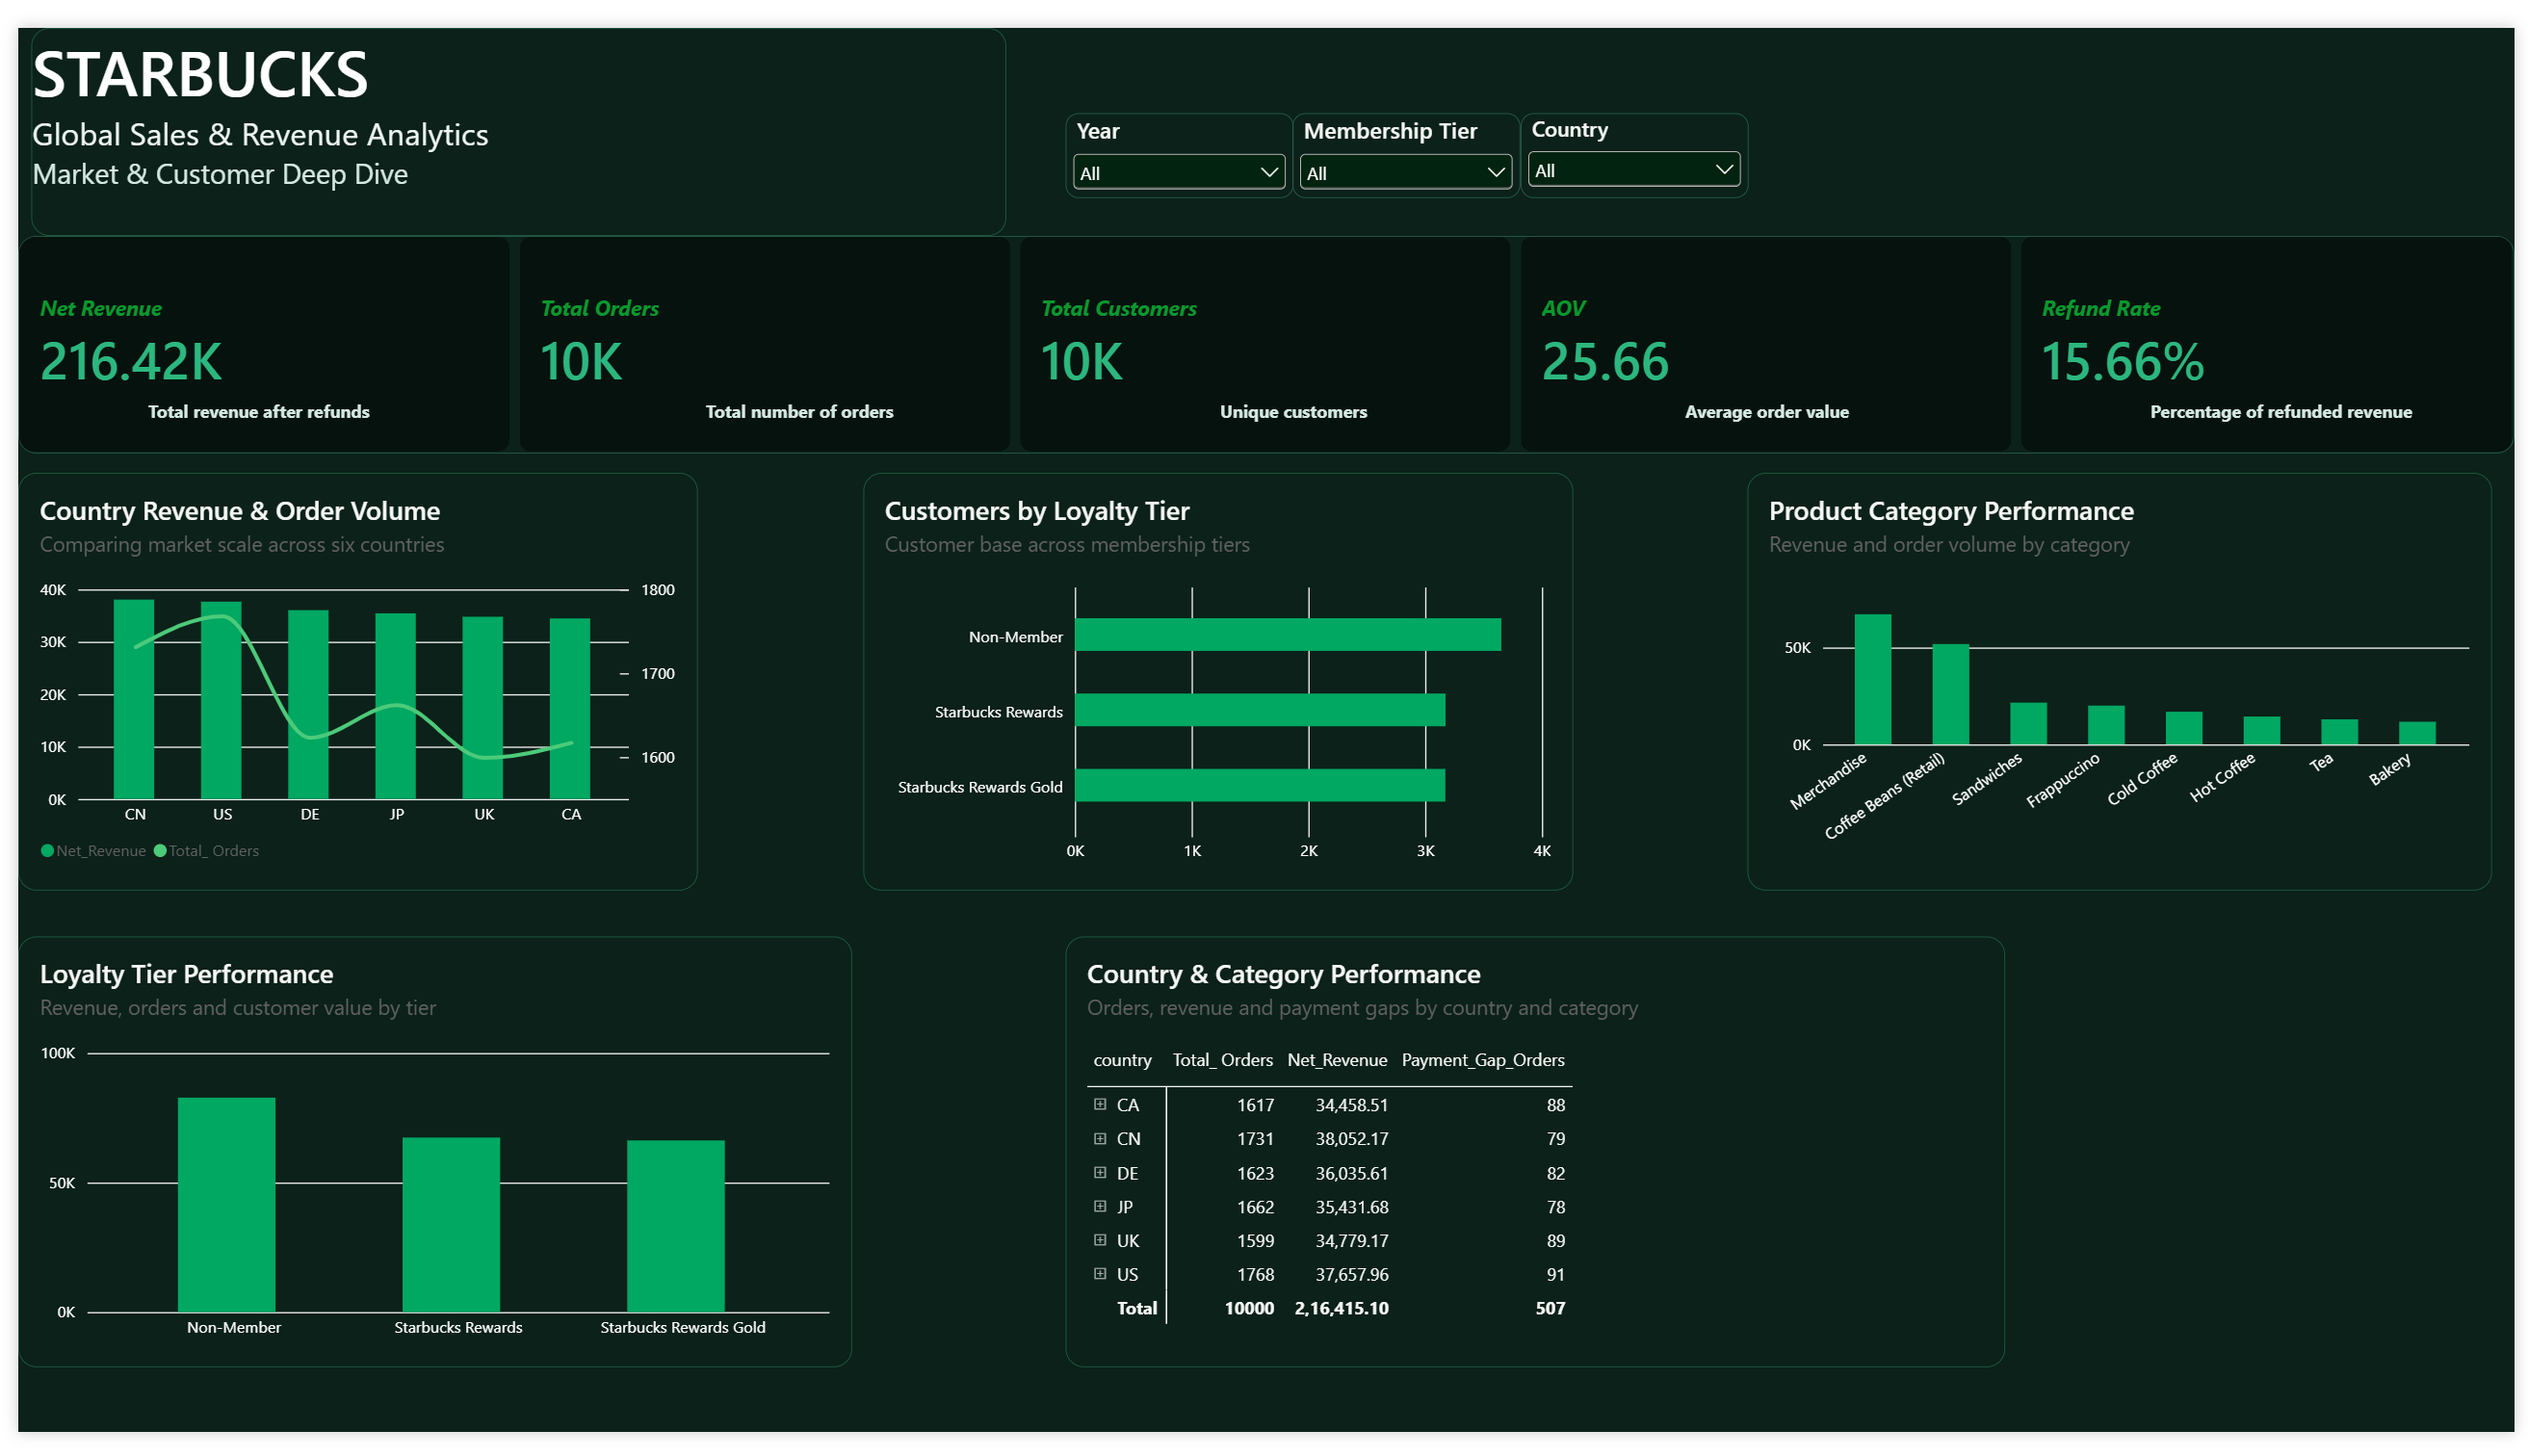

What the dashboard file says about the page in this screenshot:
{"tool":"powerbi","page":{"name":"Market & Customer Deep Dive","canvas":[1920,1080],"ordinal":1},"visuals":[{"type":"textbox","box":[10,0,750,160],"z":0},{"type":"slicer","fields":{"Values":["Date.Year"]},"box":[805,65,175,65],"z":1000},{"type":"slicer","fields":{"Values":["public customers.membership_tier"]},"box":[980,65,175,65],"z":2000},{"type":"slicer","fields":{"Values":["public customers.country"]},"box":[1155,65,175,65],"z":3000},{"type":"image","box":[210,160,76.7,105],"z":4000},{"type":"cardVisual","fields":{"Data":["public orders.Net_Revenue","public orders.Total_ Orders","public orders.Total_Customers","public orders.AOV","public orders.Refund_Rate"]},"box":[0,160,1920,167.5],"z":5000},{"type":"textbox","box":[10,286,350,28.9],"z":6000},{"type":"textbox","box":[442,286,317.5,41.2],"z":7000},{"type":"textbox","box":[924,286,287.5,57.5],"z":8000},{"type":"textbox","box":[1282.5,285,327.5,167.5],"z":9000},{"type":"textbox","box":[1640,285,280,167.5],"z":10000},{"type":"lineClusteredColumnComboChart","title":"Country Revenue & Order Volume","fields":{"Category":["public customers.country"],"Y":["public orders.Net_Revenue"],"Y2":["public orders.Total_ Orders"]},"box":[0,342.5,522.5,321.2],"z":11000},{"type":"clusteredBarChart","title":"Customers by Loyalty Tier","fields":{"Category":["public customers.membership_tier"],"Y":["public orders.Total_Customers"]},"box":[650,342.5,546.2,321.2],"z":12000},{"type":"clusteredColumnChart","title":"Product Category Performance","fields":{"Category":["public orders.product_category"],"Y":["public orders.Net_Revenue"]},"box":[1330,342.5,572.5,321.2],"z":13000},{"type":"clusteredColumnChart","title":"Loyalty Tier Performance","fields":{"Category":["public customers.membership_tier"],"Y":["public orders.Net_Revenue"]},"box":[0,698.8,641.2,331.2],"z":14000},{"type":"pivotTable","title":"Country & Category Performance","fields":{"Rows":["public customers.country","public orders.product_category"],"Values":["public orders.Total_ Orders","public orders.Net_Revenue","public orders.Payment_Gap_Orders"]},"box":[805,698.8,722.5,331.2],"z":15000}]}

Visuals, with their boxes in screenshot pixels (x1, y1, x2, y2), scaled from the page's 1920x1080 canvas onto the 2528x1456 screenshot:
textbox: region(13, 0, 1001, 216)
slicer - Date.Year: region(1060, 88, 1290, 175)
slicer - public customers.membership_tier: region(1290, 88, 1521, 175)
slicer - public customers.country: region(1521, 88, 1751, 175)
image: region(276, 216, 378, 357)
cardVisual - public orders.Net_Revenue x public orders.Total_ Orders: region(0, 216, 2527, 441)
textbox: region(13, 385, 474, 425)
textbox: region(582, 385, 1000, 441)
textbox: region(1216, 385, 1595, 463)
textbox: region(1688, 384, 2120, 611)
textbox: region(2159, 384, 2527, 611)
"Country Revenue & Order Volume" lineClusteredColumnComboChart: region(0, 461, 688, 895)
"Customers by Loyalty Tier" clusteredBarChart: region(856, 461, 1575, 895)
"Product Category Performance" clusteredColumnChart: region(1751, 461, 2505, 895)
"Loyalty Tier Performance" clusteredColumnChart: region(0, 942, 845, 1389)
"Country & Category Performance" pivotTable: region(1060, 942, 2011, 1389)
